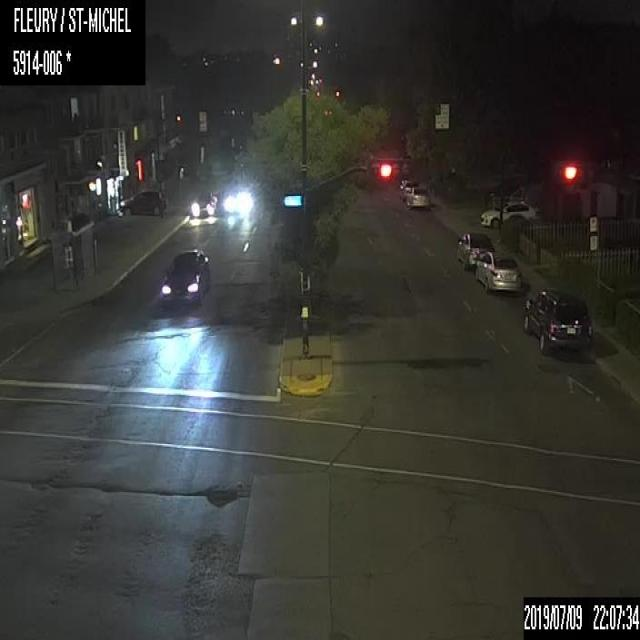vehicle: (522, 287, 594, 357), (158, 247, 210, 305), (474, 250, 524, 294), (479, 197, 538, 228), (455, 228, 494, 272), (118, 186, 166, 218), (189, 191, 217, 220), (401, 184, 429, 208)
